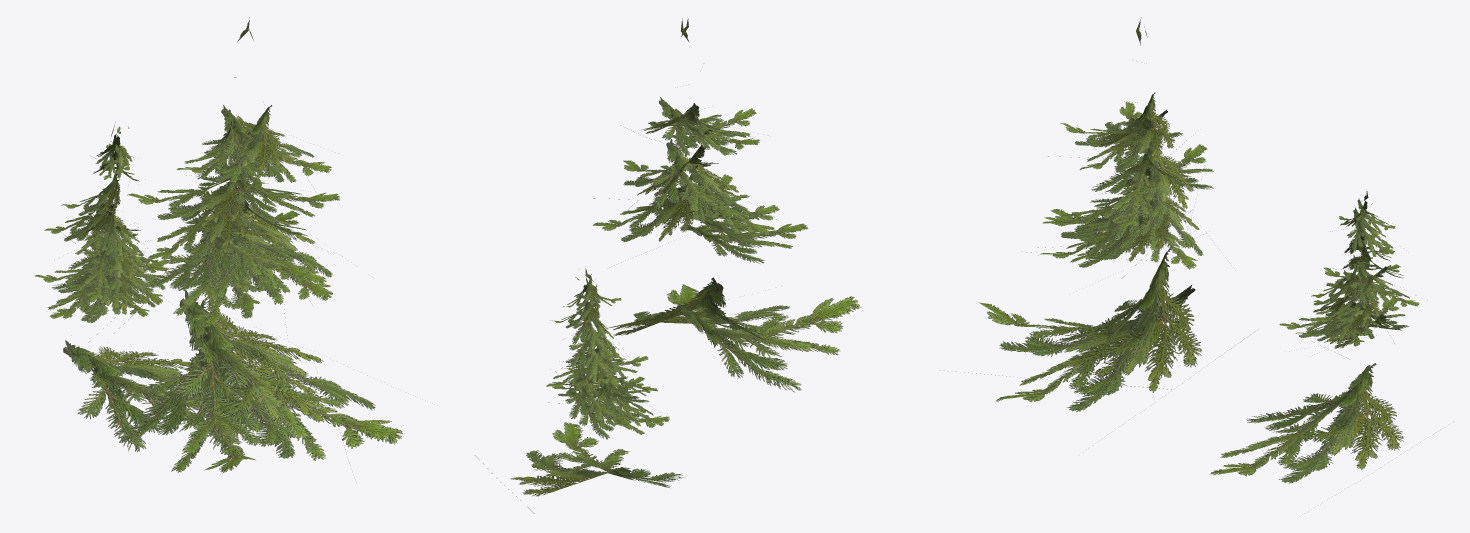
The model's file is pinheiro_lod.gltf.
3 views of the same model, side by side, from view 1: azimuth 30°, elevation 25°; view 2: azimuth 150°, elevation 25°; view 3: azimuth 270°, elevation 25° (orthographic). The views are drawn at different scales.
Parts seen in each view (by area): view 1: pinheiro_lod; view 2: pinheiro_lod; view 3: pinheiro_lod.
Boxes of the visible parts, x1,y1,x2,y2 form: pinheiro_lod: (35, 17, 402, 473); pinheiro_lod: (475, 18, 860, 513); pinheiro_lod: (964, 17, 1433, 483).
Bounding box in the file's own units: 7.57 × 10.17 × 10.79.
Materials: 1 (1 with a texture image).
